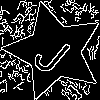J: (29, 26, 80, 78)
